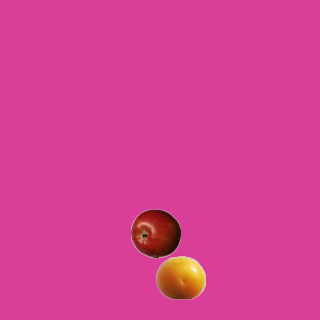Apple Braeburn: (130, 208, 180, 258)
Cherry Wax Yellow: (155, 252, 205, 302)
